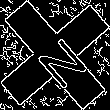N_NW: (23, 23, 87, 87)
